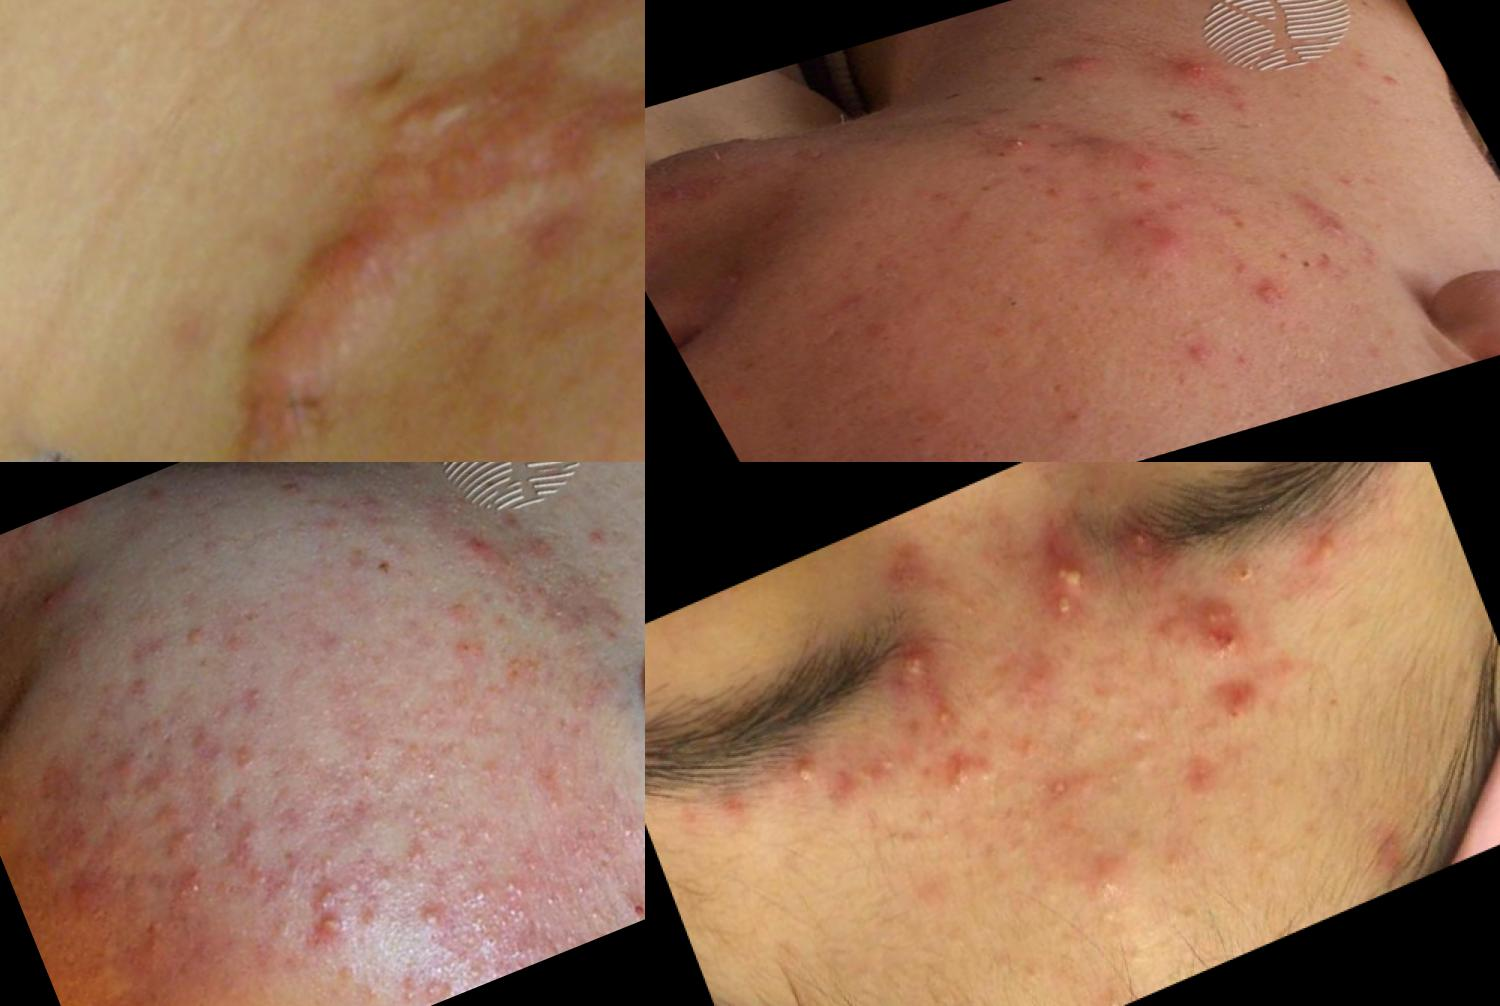blackhead: (980, 273, 1044, 322)
folliculitis: (921, 694, 981, 746), (1036, 763, 1090, 815)
keloid: (91, 1, 646, 463)
papular: (1091, 218, 1201, 281), (1147, 25, 1241, 88), (1199, 659, 1272, 737), (1030, 28, 1124, 81), (1150, 328, 1225, 388), (1233, 263, 1302, 321), (457, 510, 515, 578), (1079, 859, 1131, 915)
purulent: (774, 737, 834, 807), (982, 117, 1043, 167), (1304, 522, 1355, 580), (299, 908, 354, 955)
sebo-crystan-conglo: (1172, 573, 1259, 658), (1040, 542, 1100, 609), (894, 629, 940, 687)
whitehead: (1108, 699, 1176, 792), (385, 784, 450, 854), (399, 891, 468, 945), (298, 832, 356, 891), (476, 862, 533, 912), (172, 857, 222, 909), (1155, 675, 1201, 731), (598, 807, 646, 859), (565, 872, 597, 909), (635, 875, 646, 918)
